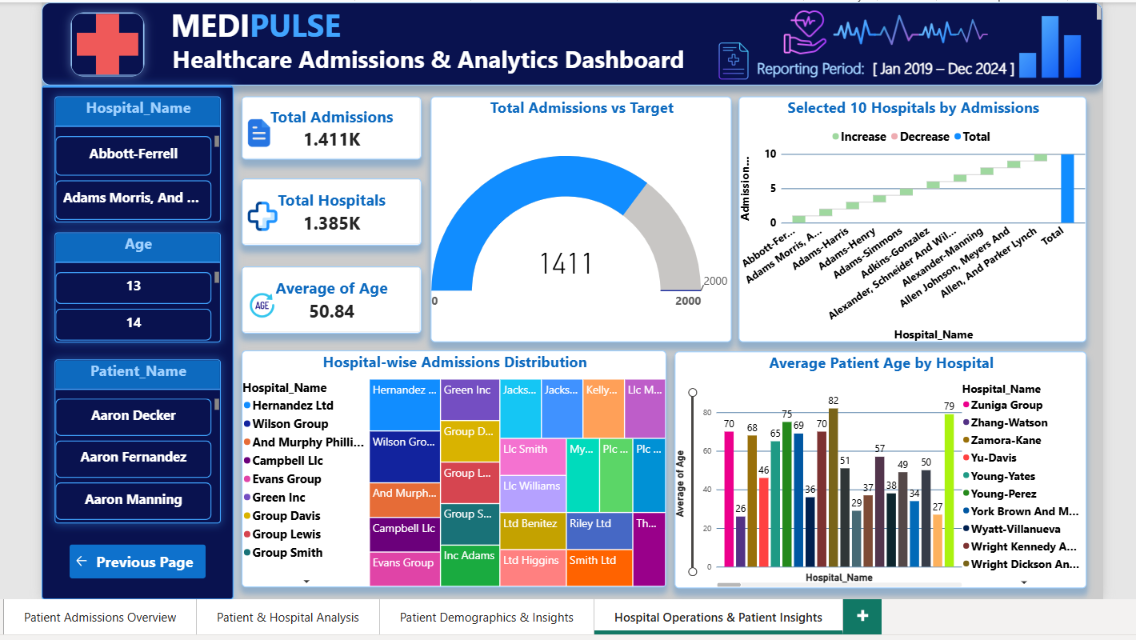

The page's visual inventory and layout, read from the dashboard file:
{"tool":"powerbi","page":{"name":"Hospital Operations & Patient Insights","canvas":[1920,1080],"ordinal":3},"visuals":[{"type":"textbox","box":[0,0,1920,150.2],"z":0},{"type":"image","box":[52.5,18.1,133.9,115.8],"z":1000},{"type":"image","box":[1759,21.7,132.1,117.6],"z":2000},{"type":"image","box":[1214.3,72.4,76,67],"z":3000},{"type":"textbox","box":[0,150.2,347.5,930.2],"z":4000},{"type":"actionButton","box":[50.7,980.8,246.1,61.5],"z":5000},{"type":"gauge","title":"Total Admissions vs Target","fields":{"MaxValue":["Clean_Dataset_Healthcare_Patien.Admission Target"],"TargetValue":["Clean_Dataset_Healthcare_Patien.Admission Target"],"Y":["CountNonNull(Patient_Dataset_New.Admission_ID)"]},"box":[704,170.1,544.7,445.2],"z":6000},{"type":"waterfallChart","title":"Selected 10 Hospitals by Admissions","fields":{"Category":["Hospital_Dataset_New.Hospital_Name"],"Y":["CountNonNull(Patient_Dataset_New.Admission_ID)"]},"box":[1261.3,170.1,629.8,445.2],"z":7000},{"type":"treemap","title":"Hospital-wise Admissions Distribution","fields":{"Group":["Hospital_Dataset_New.Hospital_Name"],"Values":["CountNonNull(Patient_Dataset_New.Admission_ID)"]},"box":[361.9,629.8,769.1,428.9],"z":8000},{"type":"ribbonChart","title":"Average Patient Age by Hospital","fields":{"Category":["Hospital_Dataset_New.Hospital_Name"],"Series":["Hospital_Dataset_New.Hospital_Name"],"Y":["Avg(Patient_Dataset_New.Age)"]},"box":[1145.5,631.6,745.6,428.9],"z":9000},{"type":"advancedSlicerVisual","fields":{"Values":["Hospital_Dataset_New.Hospital_Name"]},"box":[22.6,170.8,300.4,228],"z":10000},{"type":"advancedSlicerVisual","fields":{"Values":["Patient_Dataset_New.Age"]},"box":[23.5,416.2,300.4,199.1],"z":11000},{"type":"advancedSlicerVisual","fields":{"Values":["Patient_Dataset_New.Patient_Name"]},"box":[23.5,646,300.4,296.8],"z":12000},{"type":"cardVisual","fields":{"Data":["CountNonNull(Patient_Dataset_New.Admission_ID)"]},"box":[361.9,170.1,325.7,114],"z":12001},{"type":"cardVisual","fields":{"Data":["CountNonNull(Hospital_Dataset_New.Hospital_ID)"]},"box":[361.9,318.5,325.7,121.2],"z":12002},{"type":"cardVisual","fields":{"Data":["Avg(Patient_Dataset_New.Age)"]},"box":[361.9,477.8,325.7,121.2],"z":12003},{"type":"image","box":[361.9,206.3,63.3,59.7],"z":12004},{"type":"image","box":[361.9,358.3,76,57.9],"z":12005},{"type":"image","box":[367.4,515.8,63.3,65.1],"z":12006},{"type":"image","box":[1561.7,18.1,119.4,72.4],"z":12007},{"type":"image","box":[1641.4,19.9,79.6,63.3],"z":12008},{"type":"image","box":[1496.6,9,101.3,81.4],"z":12009},{"type":"image","box":[1409.7,12.7,123.1,81.4],"z":12010},{"type":"image","box":[1330.1,9,103.2,90.5],"z":12011}]}

Visuals, with their boxes on the page's 1920x1080 design canvas (x1, y1, x2, y2). These are canvas units, not pixel positions in the 1136x640 screenshot, which may show the page scaled, cropped or inside an application window:
textbox: [left=0, top=0, right=1920, bottom=150]
image: [left=52, top=18, right=186, bottom=134]
image: [left=1759, top=22, right=1891, bottom=139]
image: [left=1214, top=72, right=1290, bottom=139]
textbox: [left=0, top=150, right=348, bottom=1080]
actionButton: [left=51, top=981, right=297, bottom=1042]
"Total Admissions vs Target" gauge: [left=704, top=170, right=1249, bottom=615]
"Selected 10 Hospitals by Admissions" waterfallChart: [left=1261, top=170, right=1891, bottom=615]
"Hospital-wise Admissions Distribution" treemap: [left=362, top=630, right=1131, bottom=1059]
"Average Patient Age by Hospital" ribbonChart: [left=1146, top=632, right=1891, bottom=1060]
advancedSlicerVisual - Hospital_Dataset_New.Hospital_Name: [left=23, top=171, right=323, bottom=399]
advancedSlicerVisual - Patient_Dataset_New.Age: [left=24, top=416, right=324, bottom=615]
advancedSlicerVisual - Patient_Dataset_New.Patient_Name: [left=24, top=646, right=324, bottom=943]
cardVisual - CountNonNull(Patient_Dataset_New.Admission_ID): [left=362, top=170, right=688, bottom=284]
cardVisual - CountNonNull(Hospital_Dataset_New.Hospital_ID): [left=362, top=318, right=688, bottom=440]
cardVisual - Avg(Patient_Dataset_New.Age): [left=362, top=478, right=688, bottom=599]
image: [left=362, top=206, right=425, bottom=266]
image: [left=362, top=358, right=438, bottom=416]
image: [left=367, top=516, right=431, bottom=581]
image: [left=1562, top=18, right=1681, bottom=90]
image: [left=1641, top=20, right=1721, bottom=83]
image: [left=1497, top=9, right=1598, bottom=90]
image: [left=1410, top=13, right=1533, bottom=94]
image: [left=1330, top=9, right=1433, bottom=100]
